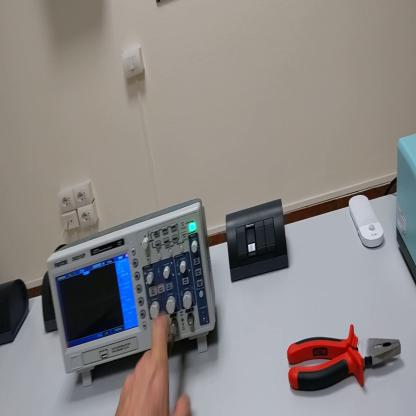hand: (115, 315, 191, 416)
oscilloscope: (45, 199, 216, 389)
pliers: (288, 322, 402, 396)
socket: (2, 278, 29, 347), (42, 273, 58, 334)
welder station: (395, 128, 416, 283)
